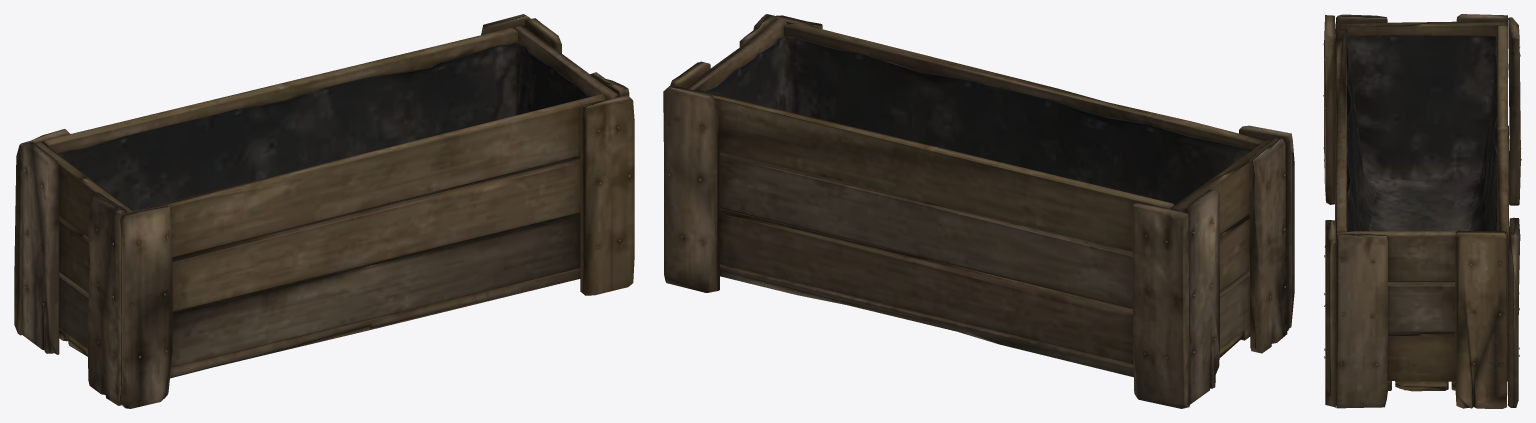
File: planter_box_02.glb
3 renders of one model, left to right at view 1: azimuth 30°, elevation 25°; view 2: azimuth 150°, elevation 25°; view 3: azimuth 270°, elevation 25°, orthographic. The views are drawn at different scales.
Visible parts, largest first — view 1: planter_box_02; view 2: planter_box_02; view 3: planter_box_02.
Part boxes in pixels (x1=…): planter_box_02: x1=14, y1=14, x2=634, y2=408; planter_box_02: x1=663, y1=14, x2=1294, y2=408; planter_box_02: x1=1323, y1=14, x2=1521, y2=408.
Size of the model in its own units: 1.25 by 0.4516 by 0.467.
Materials: 1 (1 with a texture image).
